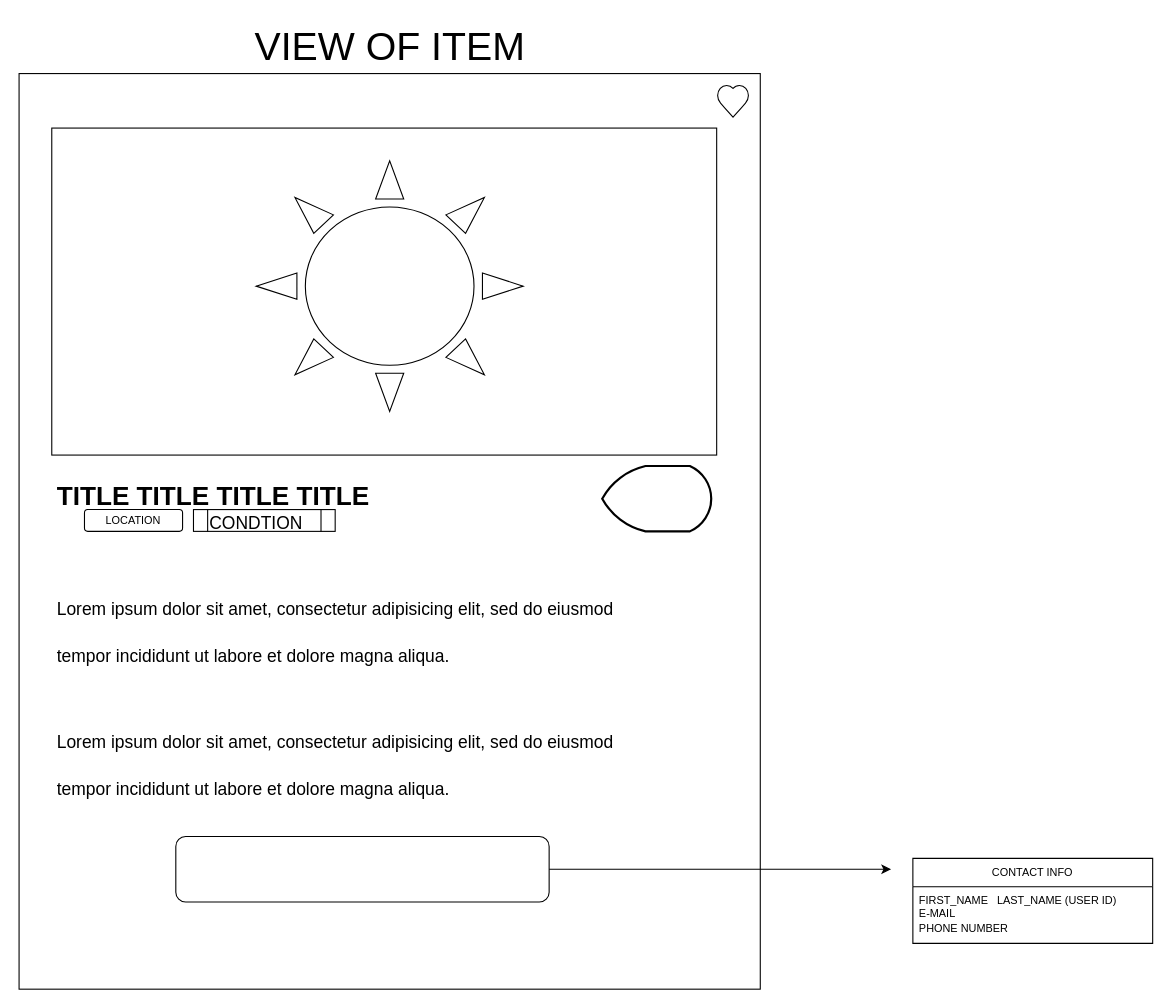
The diagram is 1172 pixels wide and 1008 high, and some of its shapes have lost their labels. The shapes that lost their labels are listed below. From the top down, each one's centre as x and y in pixels, then its label:
(x=656, y=498): PRICE
(x=362, y=868): CONTACT SELLER
